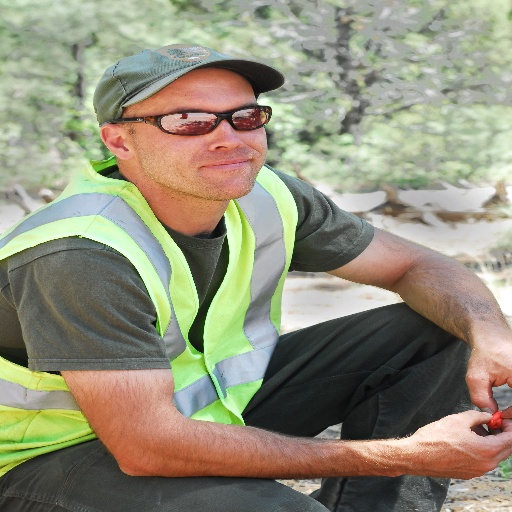hand: (380, 401, 509, 478), (461, 330, 511, 416)
